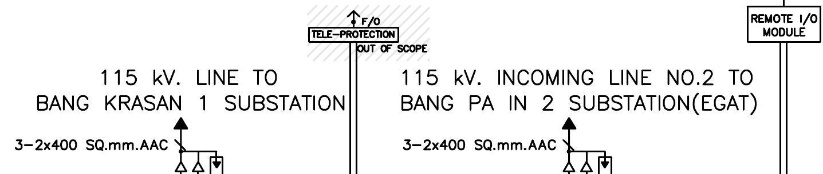remote_io_module: (746, 5, 822, 43)
tele_protection: (308, 26, 400, 43)
terminator_double: (562, 150, 594, 173), (174, 150, 205, 173)
